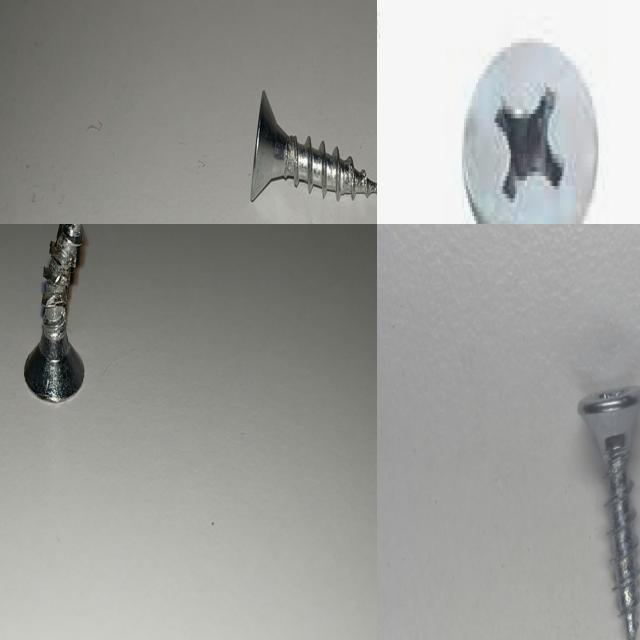Screw: (460, 38, 598, 224), (578, 385, 640, 640), (251, 90, 377, 200), (24, 224, 84, 401)
